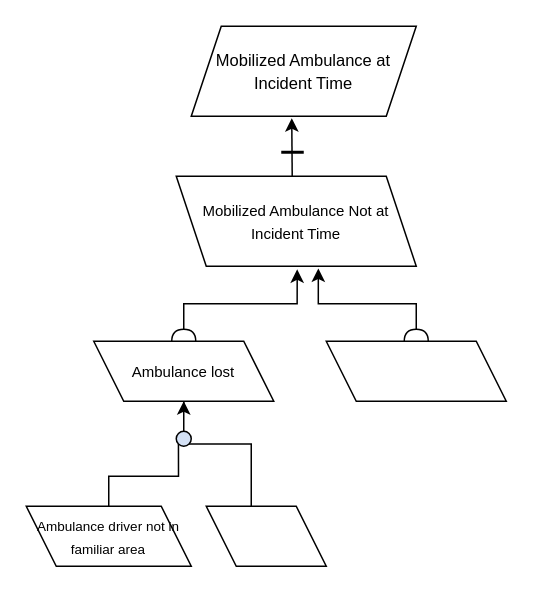
Image size: 533x593. Some labels were removed from this diagram. Each missing label, with the centre of its shape:
"Ambulance stopped" goes at point (415, 370).
"Car GPS doesn't work" goes at point (265, 535).
